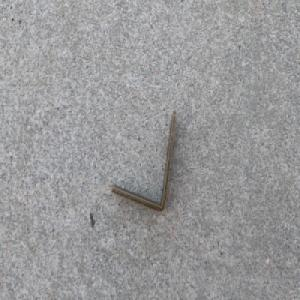MetalPart: (109, 109, 178, 214)
